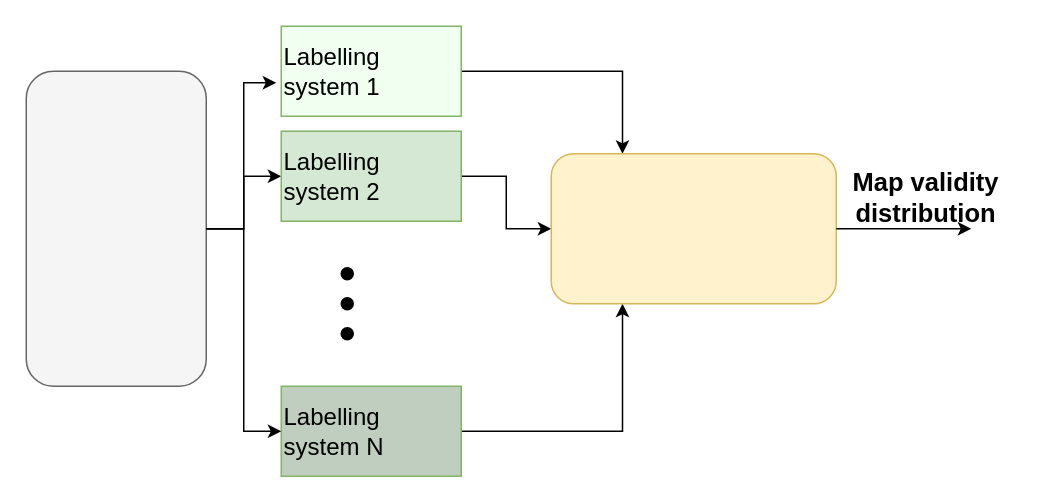
Some shapes in this 1043 by 503 pixel diagram are drawn without their labels. The centre of each missing label's shape, as x and y in pixels:
"Correlation-based approach" goes at point 693,228.
"Sensors" goes at point 115,228.
